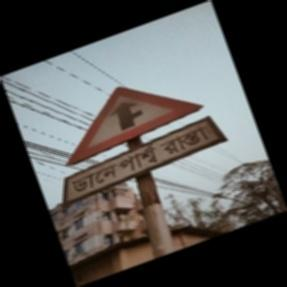Side-road-right: (63, 83, 230, 202)
